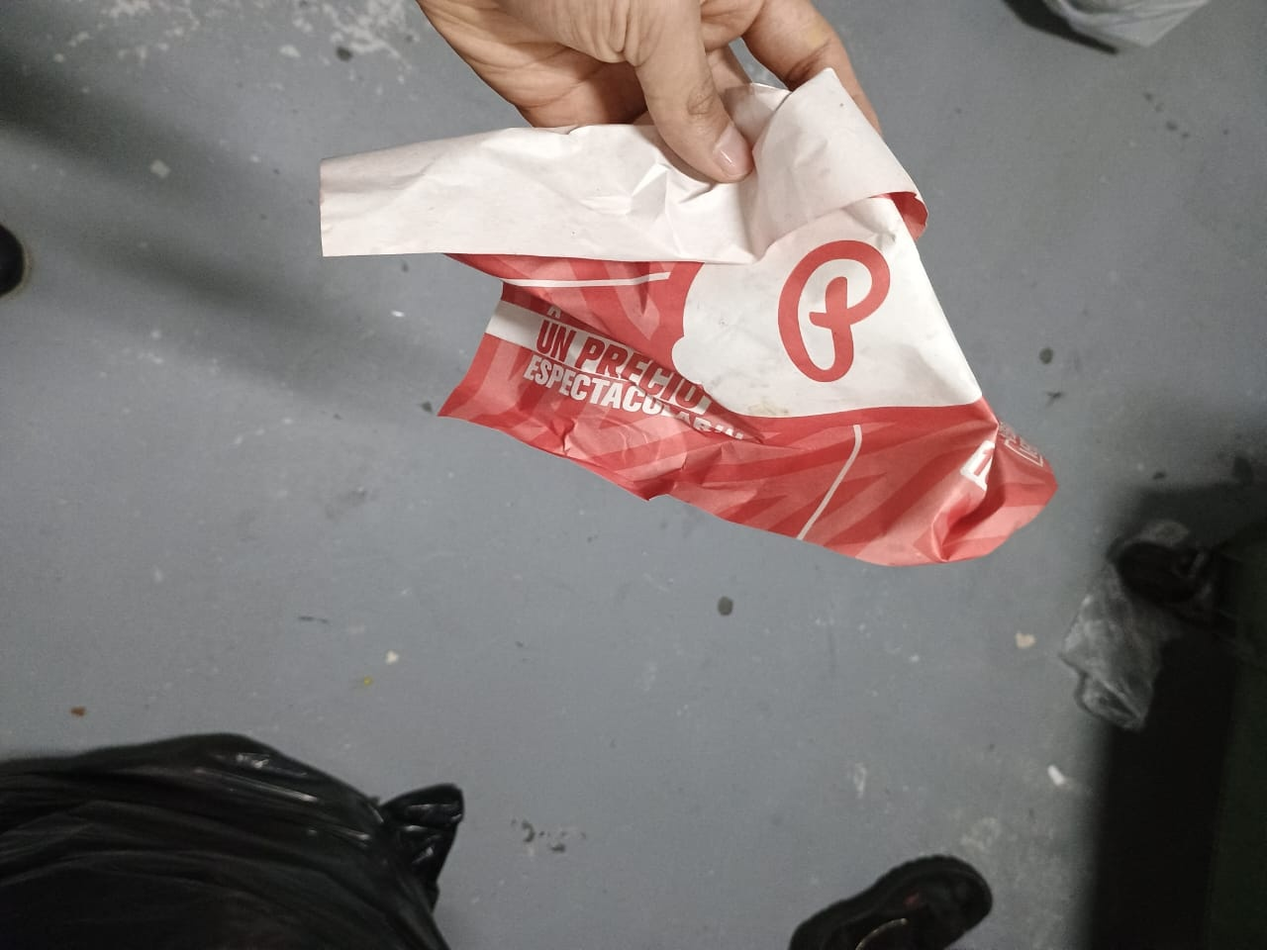Papel: (318, 66, 1056, 568)
